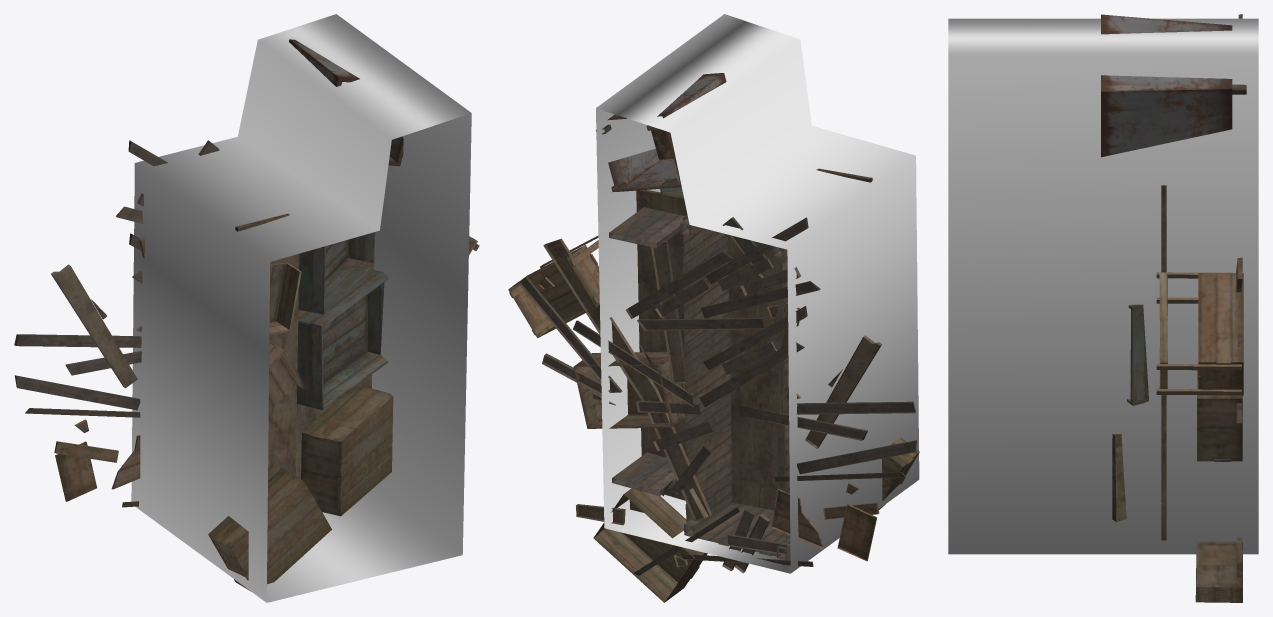
File: hd_env052_TradeShelves_01.glb
The picture shows the model from 3 angles, left to right: view 1: azimuth 30°, elevation 25°; view 2: azimuth 150°, elevation 25°; view 3: azimuth 270°, elevation 25°; orthographic projection. The views are drawn at different scales.
Visible parts, largest first — view 1: set_0_group_1, set_0_group_2, set_0_group_0; view 2: set_0_group_1, set_0_group_2, set_0_group_0; view 3: set_0_group_1, set_0_group_2, set_0_group_0.
Part boxes in pixels (box(x1,y1,x2,y2)): set_0_group_1: box(131, 14, 471, 602); set_0_group_2: box(208, 39, 479, 591); set_0_group_0: box(14, 140, 219, 507); set_0_group_1: box(596, 14, 919, 573); set_0_group_2: box(508, 73, 919, 602); set_0_group_0: box(519, 217, 916, 576); set_0_group_1: box(948, 18, 1258, 554); set_0_group_2: box(1101, 14, 1246, 602); set_0_group_0: box(1236, 14, 1242, 577).
Bounding box in the file's own units: 3.88 × 4.43 × 2.12.
3 materials, 2 textured.
